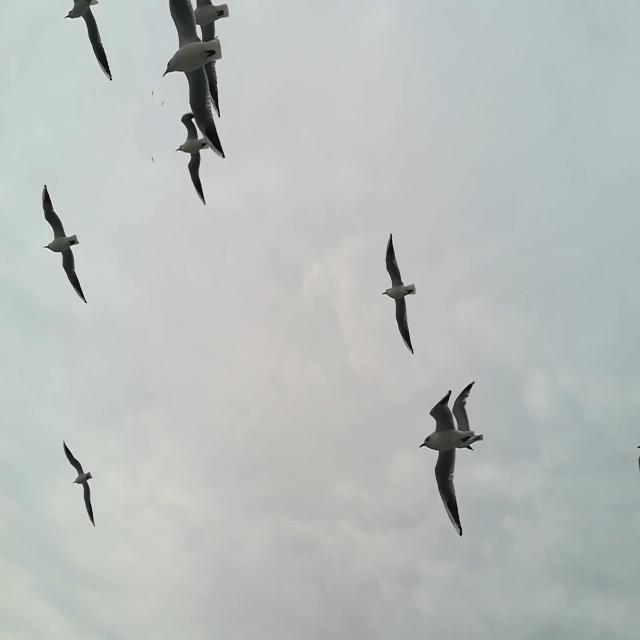bird: (161, 0, 224, 171), (418, 387, 476, 539), (40, 180, 90, 309), (379, 231, 420, 361), (190, 0, 230, 121), (63, 0, 115, 89), (60, 438, 98, 530), (172, 108, 207, 207), (451, 378, 484, 451)
